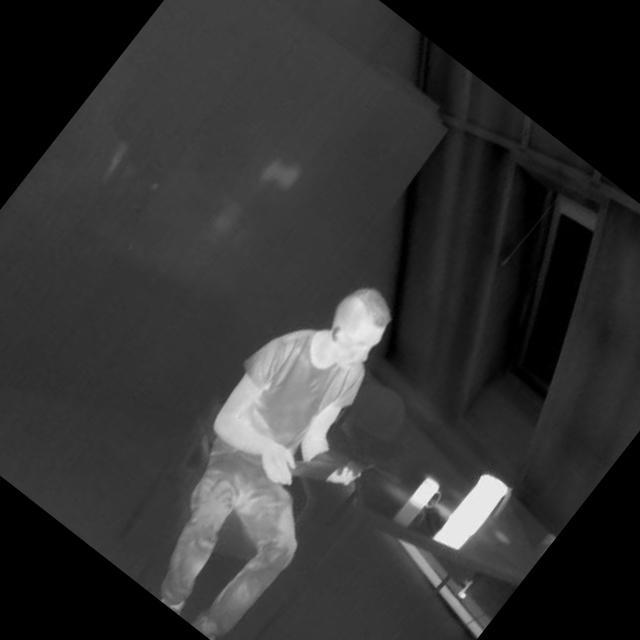person: (97, 246, 467, 640)
